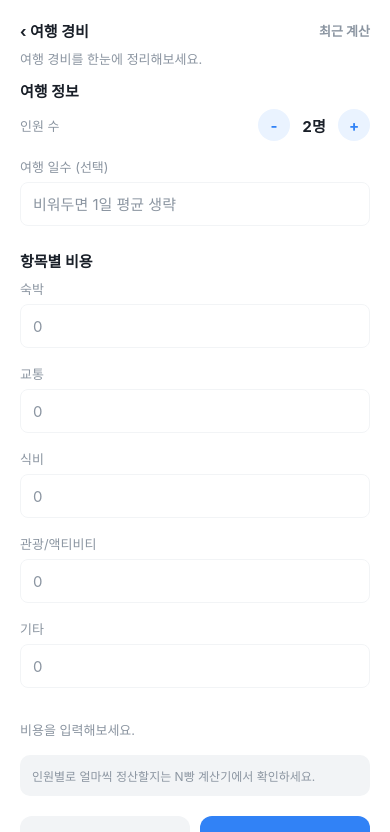
TravelExpenseScreen › hides the per-day figure when days is left blank
The width and height of the screenshot is (390, 832).
In the field with test id "input-category-lodging": (195, 326) [20,304,370,348], type "100000"
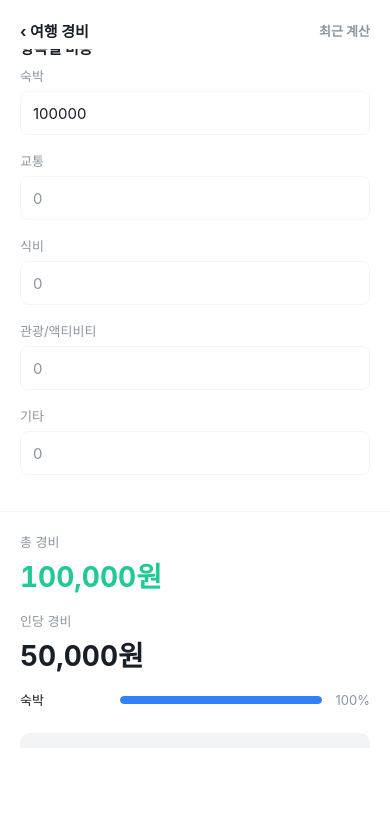
Expected: the element with test id "travel-expense-result" is shown, [0,511,389,717]
